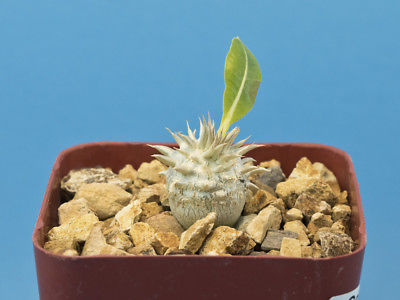Pachypodium brevicaule: (159, 113, 262, 221)
